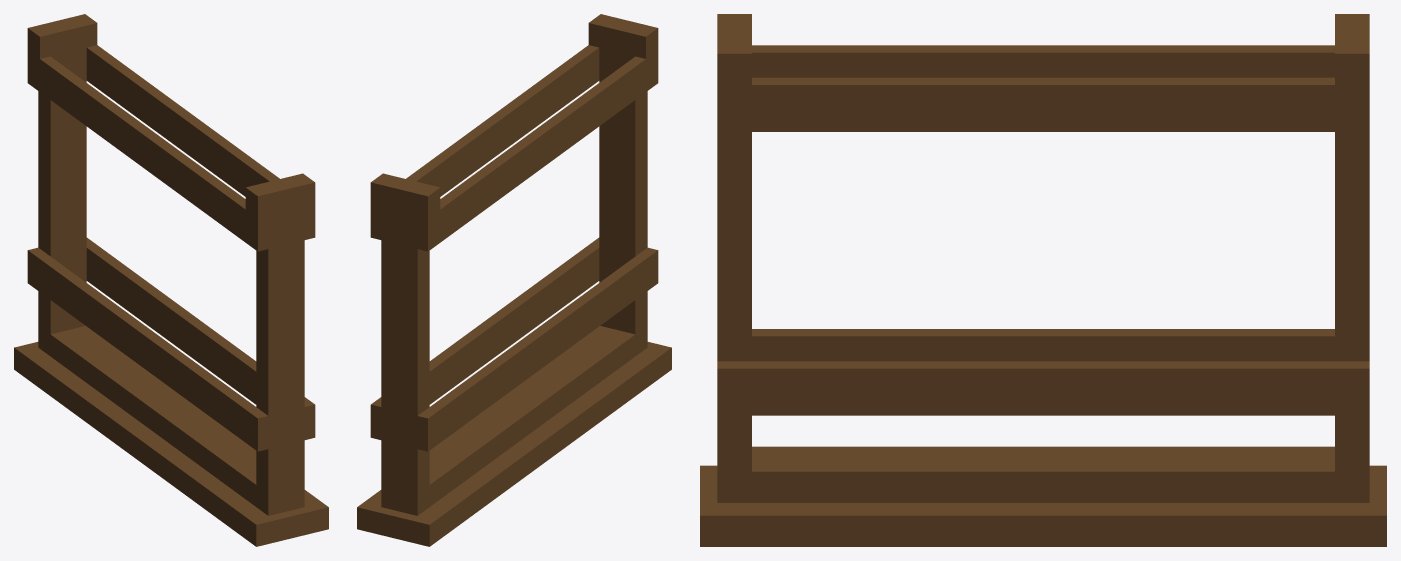
The model's file is Medieval Weapon Racks.glb.
The picture shows the model from 3 angles, left to right: view 1: azimuth 30°, elevation 25°; view 2: azimuth 150°, elevation 25°; view 3: azimuth 270°, elevation 25°; orthographic projection. The views are drawn at different scales.
Visible parts, largest first — view 1: Cube (×10); view 2: Cube (×10); view 3: Cube (×10).
Boxes of the visible parts, x1,y1,x2,y2 form: Cube (×10): [14, 14, 328, 546]; Cube (×10): [357, 14, 671, 546]; Cube (×10): [700, 14, 1386, 546].
Size of the model in its own units: 0.24 by 1.09 by 1.39.
